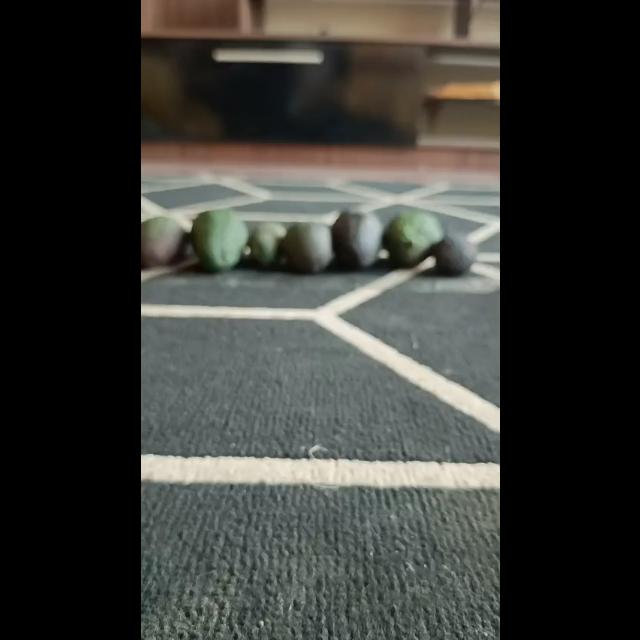Primera: (190, 208, 248, 272), (382, 210, 442, 268), (331, 210, 382, 270)
Segunda: (279, 222, 331, 274), (140, 216, 186, 268)
Tercera: (429, 230, 476, 276), (246, 222, 286, 268)
